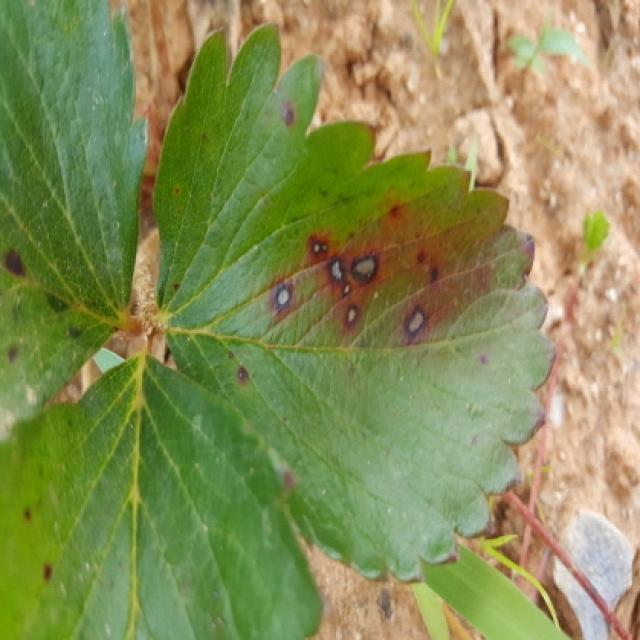Leaf Spot: (152, 22, 558, 585), (0, 352, 323, 638)
